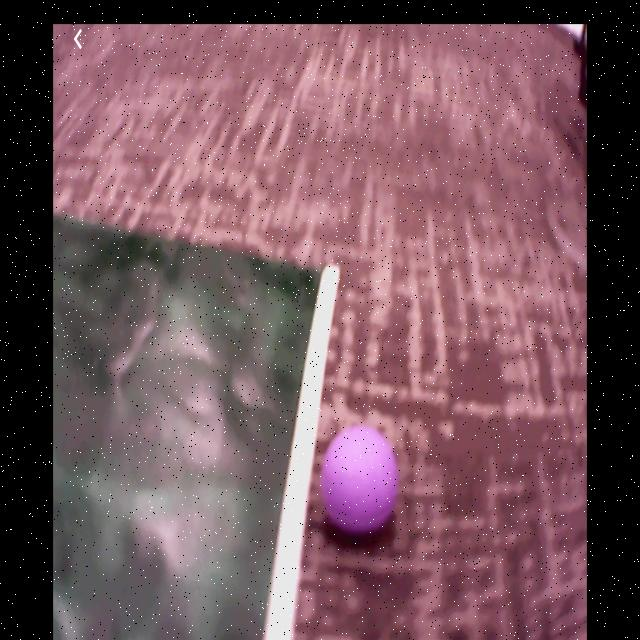ball: (323, 426, 398, 531)
